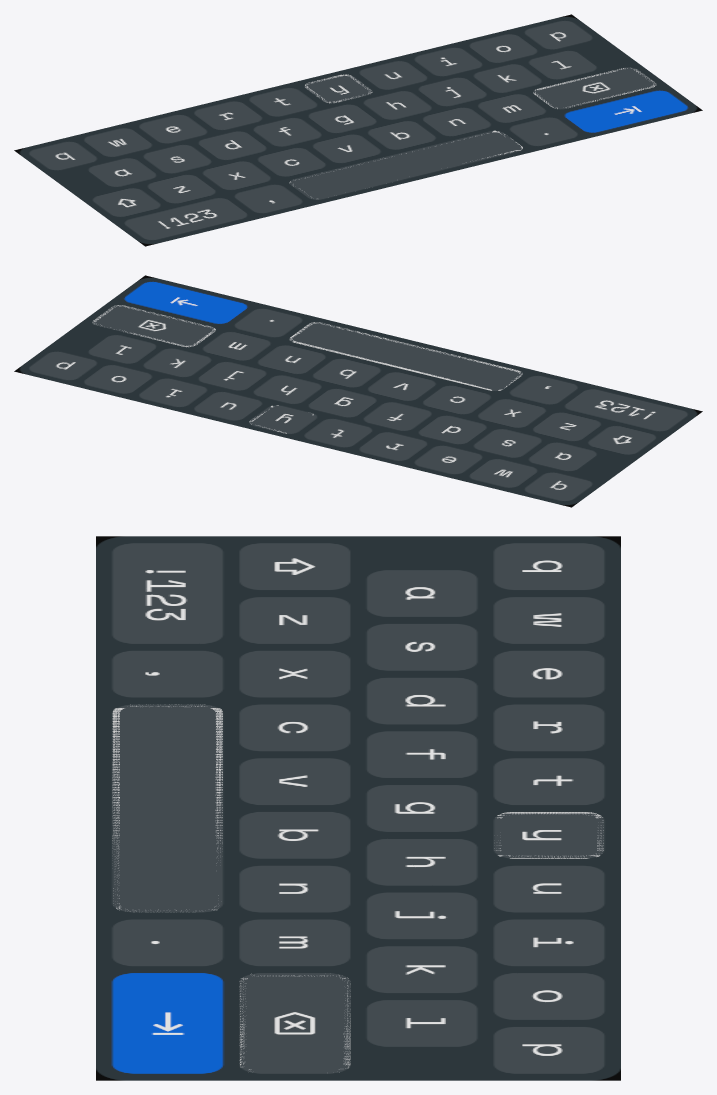
The model's file is xrkeys.glb.
The picture shows the model from 3 angles, top to bottom: view 1: azimuth 30°, elevation 25°; view 2: azimuth 150°, elevation 25°; view 3: azimuth 270°, elevation 25°; orthographic projection. The views are drawn at different scales.
Visible parts, largest first — view 1: lowercase, longkeymask; view 2: lowercase, spacemask, longkeymask; view 3: lowercase, spacemask.
Boxes of the visible parts, x1=… form: lowercase: x1=14, y1=14, x2=702, y2=246; longkeymask: x1=533, y1=68, x2=656, y2=108; lowercase: x1=14, y1=275, x2=702, y2=507; spacemask: x1=289, y1=322, x2=522, y2=390; longkeymask: x1=92, y1=305, x2=215, y2=347; lowercase: x1=96, y1=536, x2=620, y2=1080; spacemask: x1=112, y1=704, x2=222, y2=911.
Bounding box in the file's own units: 0.3495 × 0 × 0.1425.
Materials: 1 (1 with a texture image).
